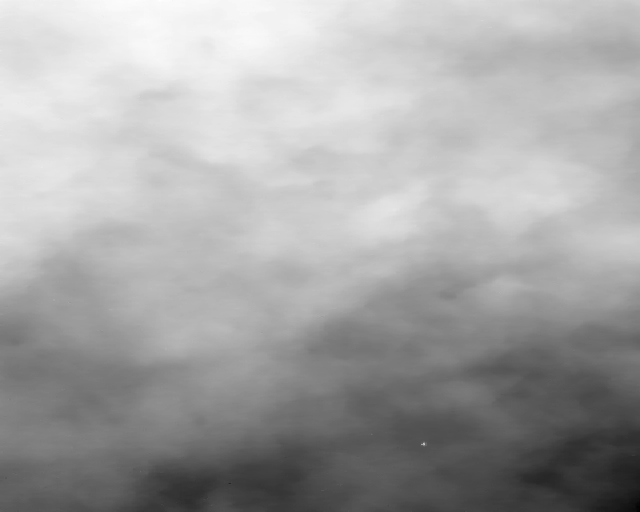Target: (421, 442, 428, 448)
